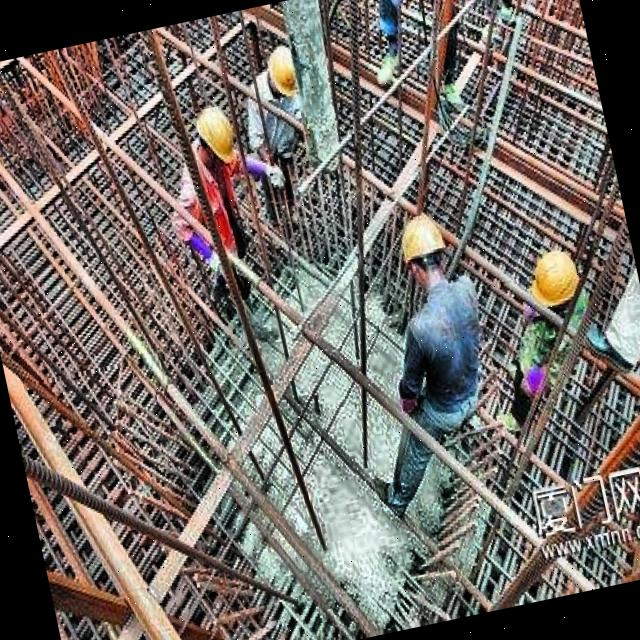helmet: (389, 207, 462, 299), (183, 96, 248, 193), (527, 244, 587, 318), (256, 36, 308, 104)
